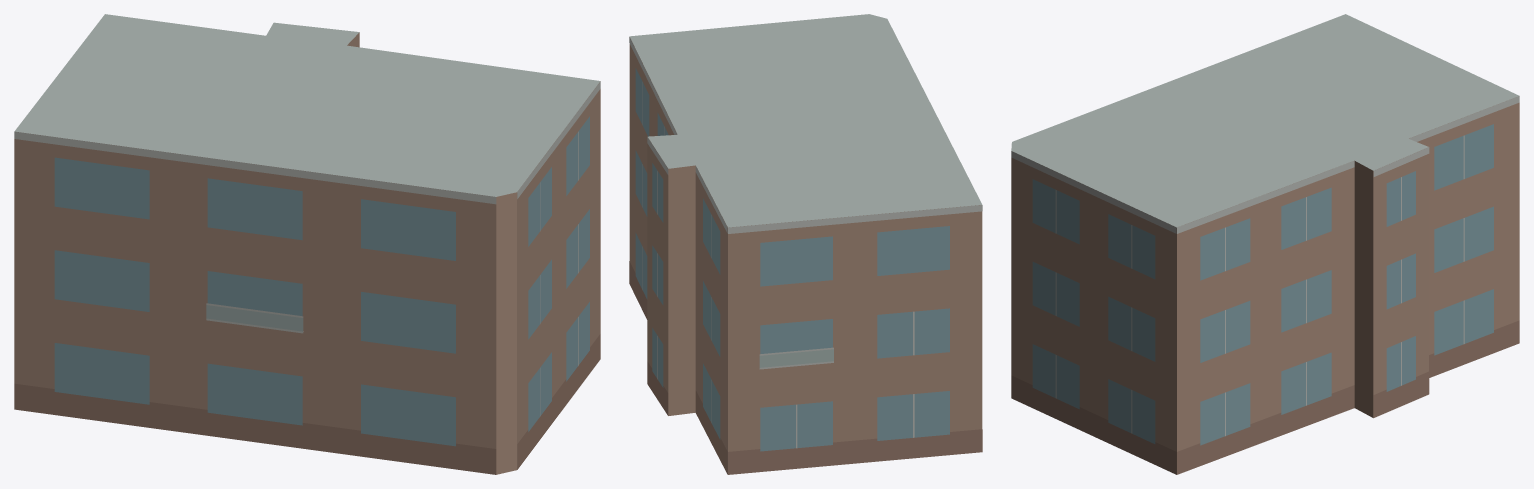
File: survey-upis-32688513.glb
3 views of the same model, side by side, from view 1: azimuth 30°, elevation 25°; view 2: azimuth 150°, elevation 25°; view 3: azimuth 270°, elevation 25° (orthographic). The views are drawn at different scales.
Parts seen in each view (by area): view 1: survey-upis-32688513.tmp; view 2: survey-upis-32688513.tmp; view 3: survey-upis-32688513.tmp.
Boxes of the visible parts, box(x1,y1,x2,y2) form: survey-upis-32688513.tmp: box(14, 14, 600, 474); survey-upis-32688513.tmp: box(629, 14, 982, 474); survey-upis-32688513.tmp: box(1011, 14, 1519, 474).
Size of the model in its own units: 16.94 by 9.15 by 17.05.
